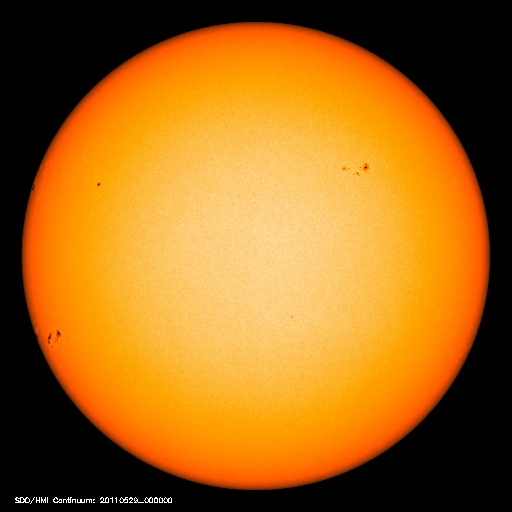sunspot: (334, 154, 380, 188), (32, 318, 68, 351), (19, 175, 46, 202), (85, 171, 111, 197)
